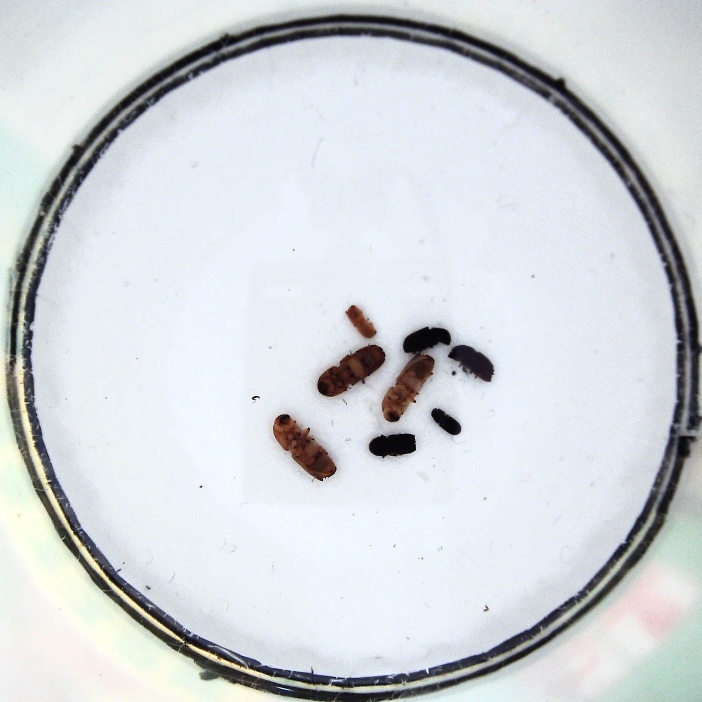acuminatus: (344, 302, 378, 339)
armandi: (401, 327, 452, 355)
boerner: (272, 412, 337, 481), (317, 343, 386, 397), (382, 354, 436, 422)
coleoptera: (432, 407, 462, 436)
linnaeus: (449, 345, 494, 382), (368, 433, 417, 457)
